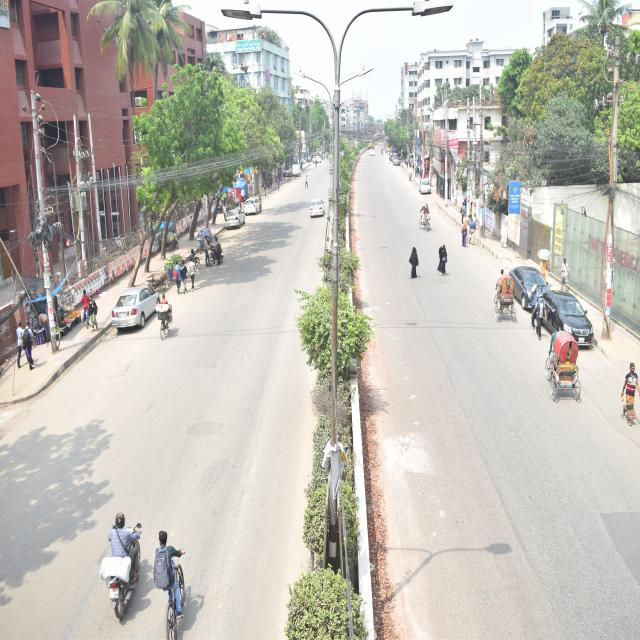car: (536, 288, 600, 352), (109, 285, 165, 334), (508, 259, 550, 312), (222, 205, 246, 231), (307, 197, 327, 222), (245, 192, 263, 217), (417, 177, 436, 200)
motorbike: (103, 510, 144, 625), (205, 242, 226, 266)
